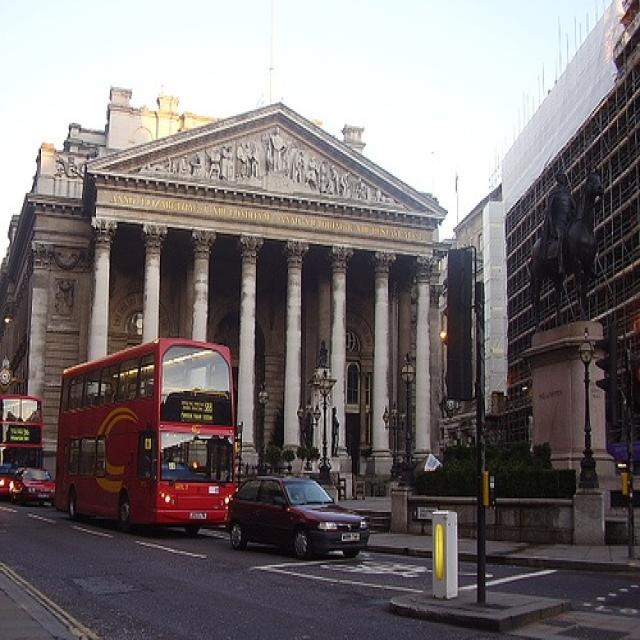bus: (54, 334, 235, 532), (0, 392, 42, 495)
car: (224, 473, 369, 565), (8, 470, 56, 510)
